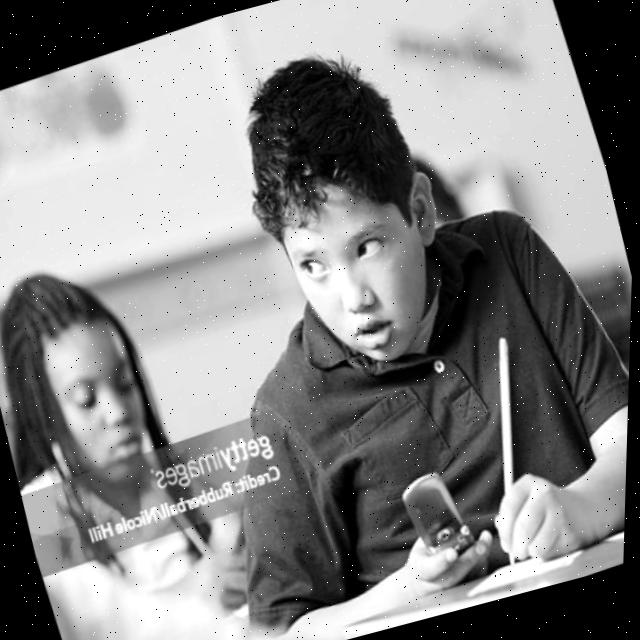phone: (397, 460, 486, 568)
